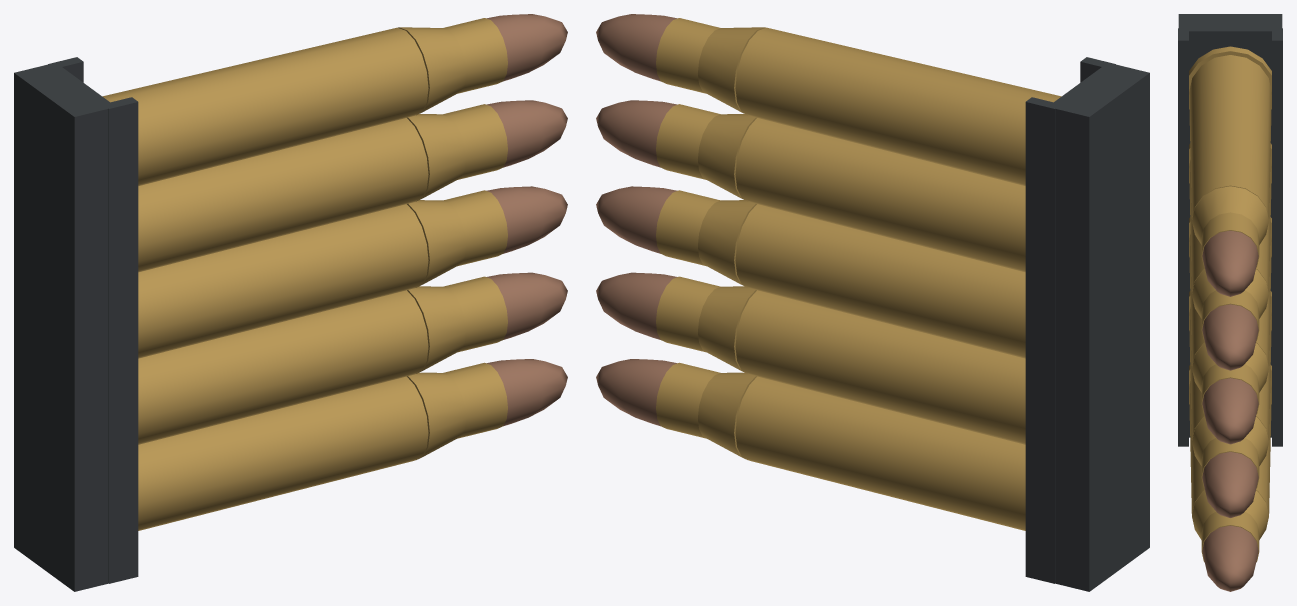
The model's file is bolt-no4-charger-v1.glb.
3 views of the same model, side by side, from view 1: azimuth 30°, elevation 25°; view 2: azimuth 150°, elevation 25°; view 3: azimuth 270°, elevation 25° (orthographic). The views are drawn at different scales.
Parts seen in each view (by area): view 1: Mesh_ChargerCue_Cases, Mesh_ChargerCue_Charger, Mesh_ChargerCue_Tips; view 2: Mesh_ChargerCue_Cases, Mesh_ChargerCue_Charger, Mesh_ChargerCue_Tips; view 3: Mesh_ChargerCue_Cases, Mesh_ChargerCue_Tips, Mesh_ChargerCue_Charger.
Boxes of the visible parts, left/top/right/bottom form: Mesh_ChargerCue_Cases: left=102, top=18, right=507, bottom=530; Mesh_ChargerCue_Charger: left=14, top=57, right=138, bottom=591; Mesh_ChargerCue_Tips: left=486, top=14, right=567, bottom=426; Mesh_ChargerCue_Cases: left=656, top=18, right=1061, bottom=530; Mesh_ChargerCue_Charger: left=1025, top=57, right=1149, bottom=591; Mesh_ChargerCue_Tips: left=596, top=14, right=677, bottom=426; Mesh_ChargerCue_Cases: left=1189, top=46, right=1271, bottom=561; Mesh_ChargerCue_Tips: left=1202, top=230, right=1258, bottom=591; Mesh_ChargerCue_Charger: left=1178, top=14, right=1282, bottom=446.
Bounding box in the file's own units: 0.075 × 0.065 × 0.0152.
